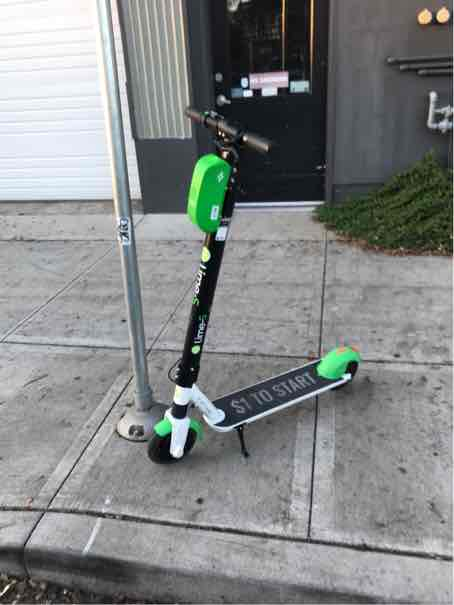scooter: (137, 100, 372, 475)
